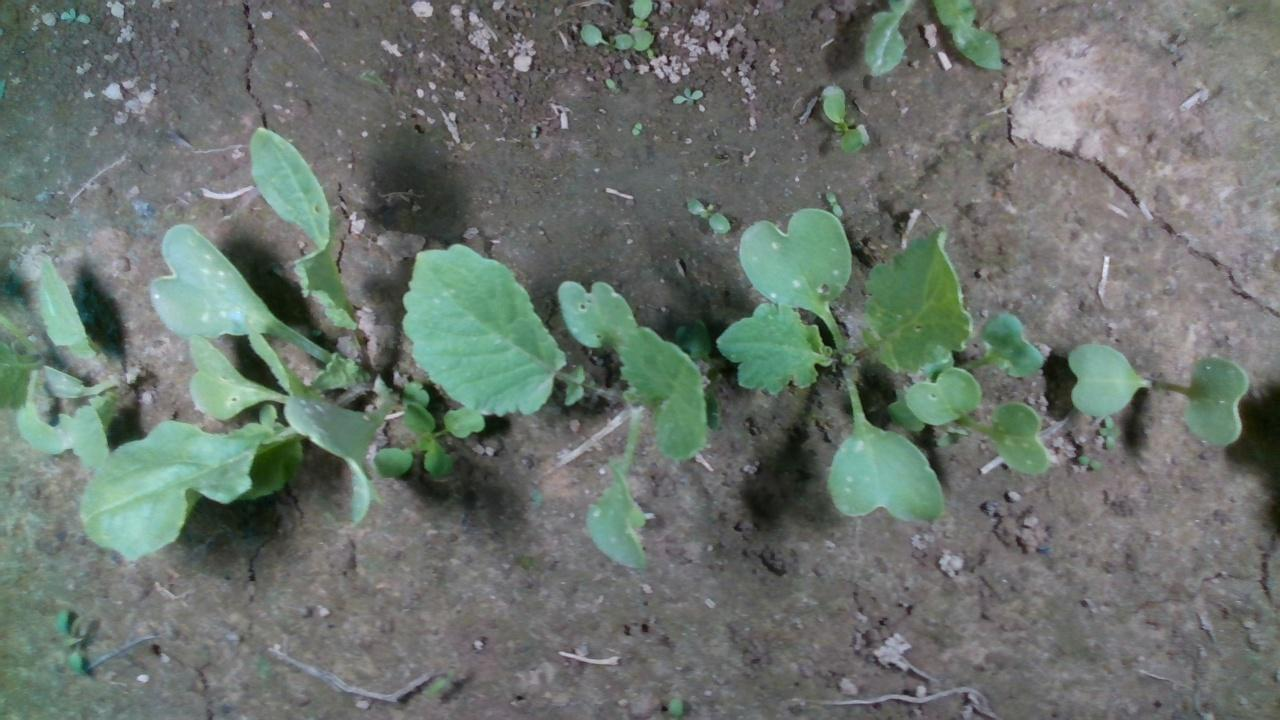weed: (820, 90, 864, 152), (682, 193, 732, 237), (626, 116, 655, 140), (673, 85, 708, 104)
